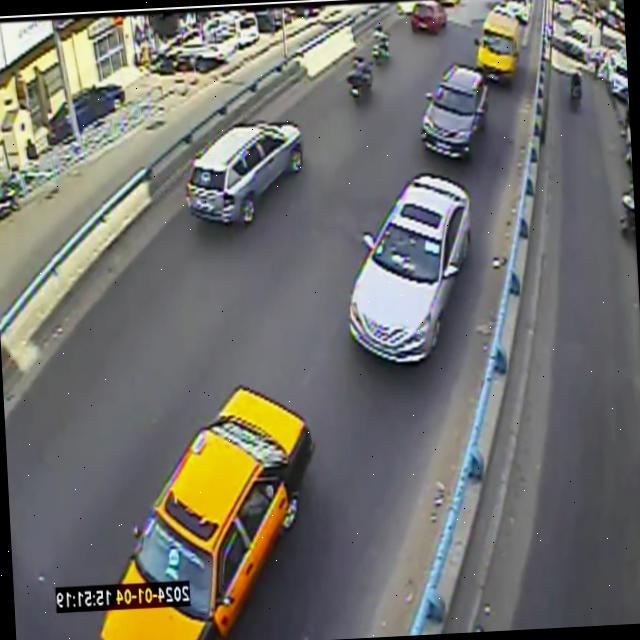car: (102, 387, 315, 640), (350, 173, 472, 363), (187, 123, 302, 221), (422, 64, 489, 157), (475, 13, 520, 82), (411, 1, 446, 33)
